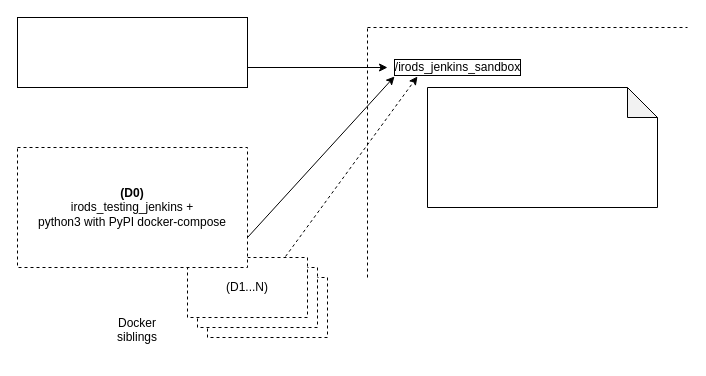
The diagram is 706 pixels wide and 376 high, and some of its shapes have lost their labels. Each missing label, with the centre of its shape:
(H) host: the point at 132,52
client repo + irods consortium hook (py module) + path/to/docker-compose.yml: the point at 542,147
